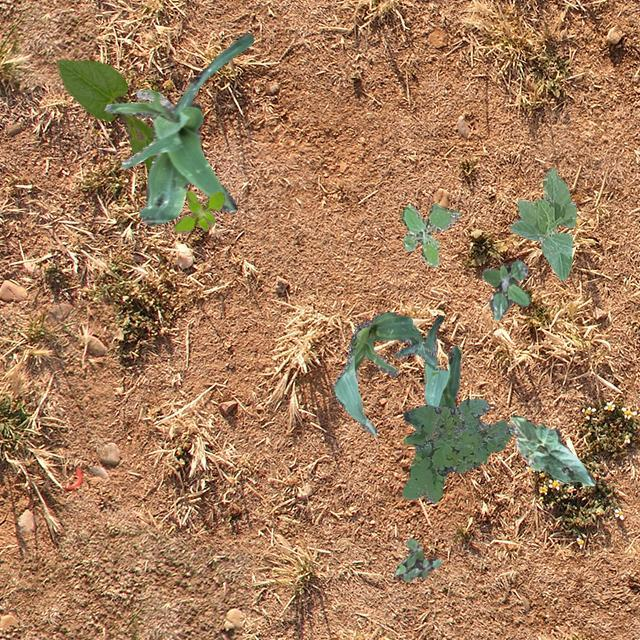crop: (102, 34, 252, 225), (332, 310, 436, 436), (56, 58, 154, 168), (508, 166, 576, 278), (508, 414, 594, 484), (422, 314, 460, 406)
weed: (401, 398, 514, 502), (400, 202, 460, 266), (480, 258, 530, 320), (172, 190, 224, 232), (394, 536, 441, 580)
